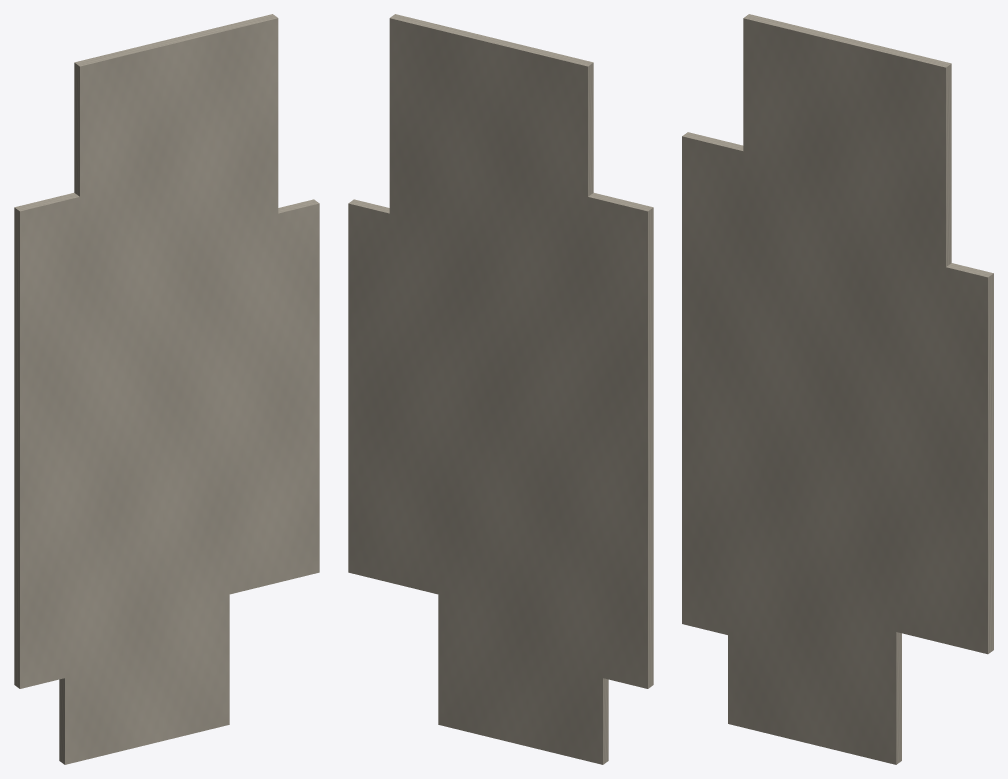
File: D_PlasterPatch_Tall_visual.glb
The picture shows the model from 3 angles, left to right: view 1: azimuth 30°, elevation 25°; view 2: azimuth 150°, elevation 25°; view 3: azimuth 330°, elevation 25°; orthographic projection. The views are drawn at different scales.
Parts seen in each view (by area): view 1: D_PlasterPatch_Tall__VIS; view 2: D_PlasterPatch_Tall__VIS; view 3: D_PlasterPatch_Tall__VIS.
Boxes of the visible parts, x1,y1,x2,y2 form: D_PlasterPatch_Tall__VIS: [14, 14, 319, 764]; D_PlasterPatch_Tall__VIS: [348, 14, 653, 764]; D_PlasterPatch_Tall__VIS: [682, 14, 993, 764].
Bounding box in the file's own units: 2.6 × 5.76 × 0.085.
Materials: 1 (1 with a texture image).
